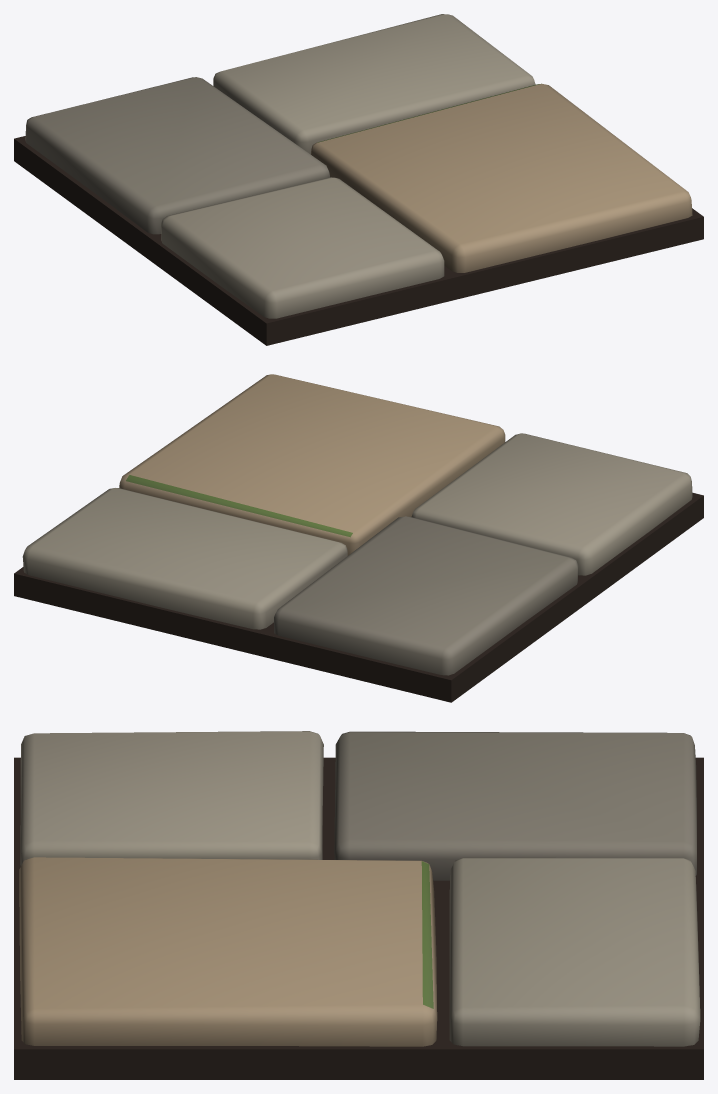
File: kit_cap2.glb
3 views of the same model, one above another, from view 1: azimuth 30°, elevation 25°; view 2: azimuth 150°, elevation 25°; view 3: azimuth 270°, elevation 25° (orthographic). The views are drawn at different scales.
Visible parts, largest first — view 1: kit_cap2; view 2: kit_cap2; view 3: kit_cap2.
Boxes of the visible parts, <box> form: kit_cap2: <box>14,14,703,345</box>; kit_cap2: <box>14,374,703,702</box>; kit_cap2: <box>14,731,703,1079</box>.
Size of the model in its own units: 1.02 by 0.1092 by 1.02.
